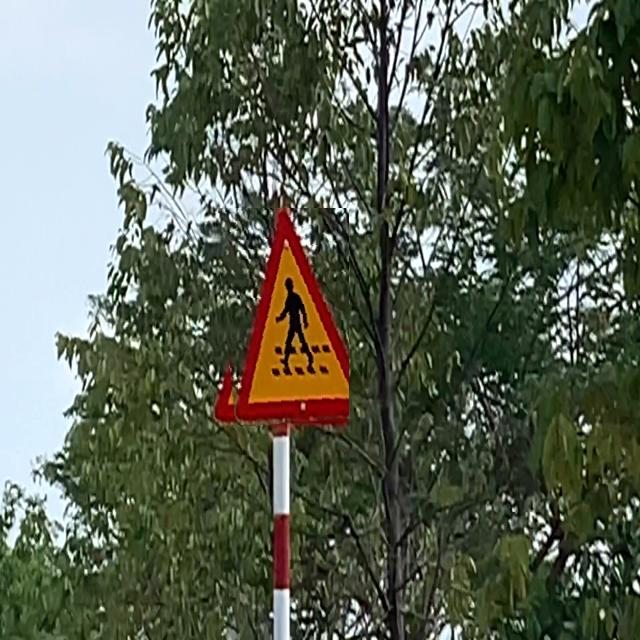W-224: (213, 208, 349, 427)
